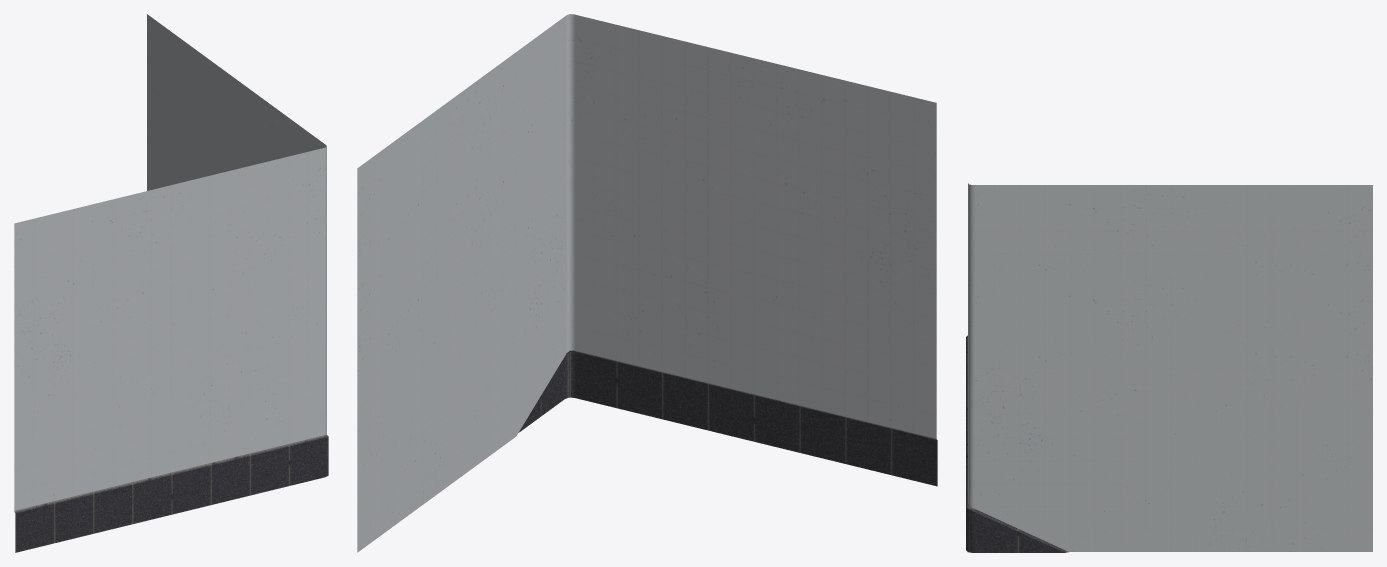
File: wall_stair_crnr_a.fbx
3 renders of one model, left to right at view 1: azimuth 30°, elevation 25°; view 2: azimuth 150°, elevation 25°; view 3: azimuth 270°, elevation 25°, orthographic. The views are drawn at different scales.
Parts seen in each view (by area): view 1: wall_stair_crnr_a; view 2: wall_stair_crnr_a; view 3: wall_stair_crnr_a.
Part boxes in pixels (x1,y1,x2,y2): wall_stair_crnr_a: (14, 14, 328, 552); wall_stair_crnr_a: (357, 14, 937, 552); wall_stair_crnr_a: (966, 183, 1372, 552).
Bounding box in the file's own units: 402 × 400 × 402.
Materials: 1 (1 with a texture image).
